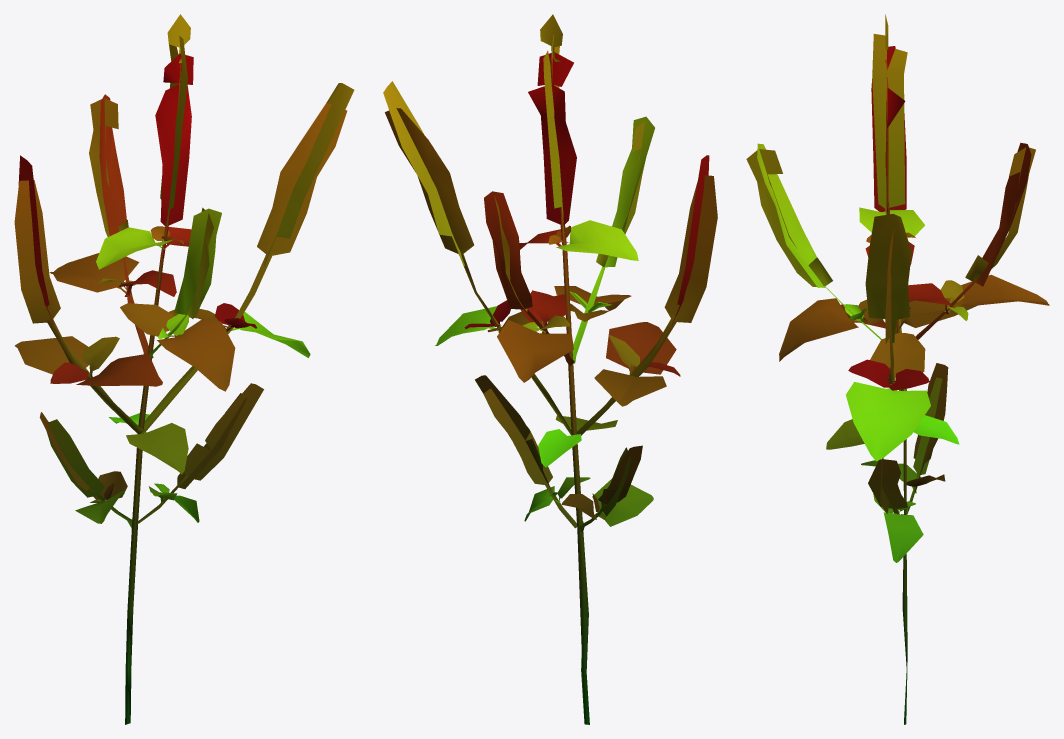
Rendered from SM_OW_Shrub_c_LOD1.fbx.
3 views of the same model, side by side, from view 1: azimuth 30°, elevation 25°; view 2: azimuth 150°, elevation 25°; view 3: azimuth 270°, elevation 25° (orthographic). The views are drawn at different scales.
Visible parts, largest first — view 1: SM_OW_Shrub_c_LOD1; view 2: SM_OW_Shrub_c_LOD1; view 3: SM_OW_Shrub_c_LOD1.
Boxes of the visible parts, left/top/right/bottom form: SM_OW_Shrub_c_LOD1: left=14, top=14, right=354, bottom=724; SM_OW_Shrub_c_LOD1: left=383, top=14, right=717, bottom=724; SM_OW_Shrub_c_LOD1: left=746, top=14, right=1049, bottom=724.
Size of the model in its own units: 0.2006 by 0.4028 by 0.1512.
